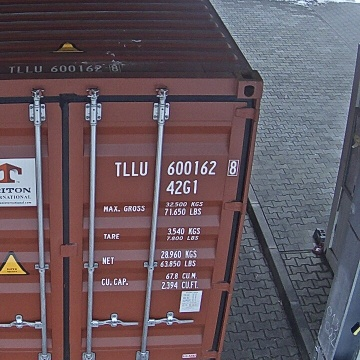serial_id: (115, 160, 237, 176)
